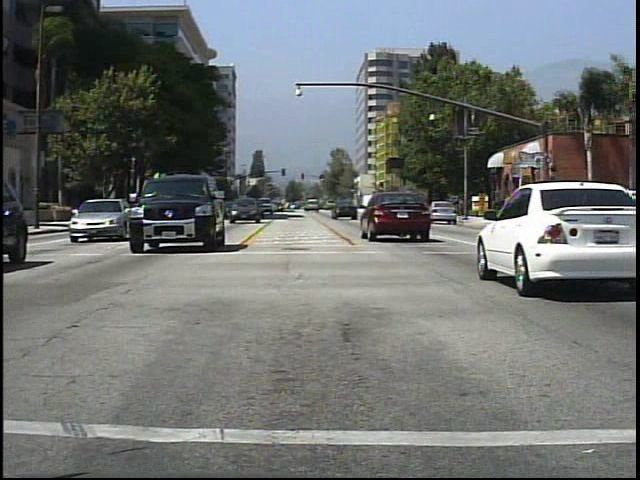person: (550, 189, 570, 229), (502, 188, 519, 224)
